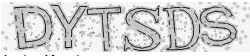D: (11, 4, 53, 50), (162, 5, 201, 54)
S: (123, 6, 163, 52), (199, 4, 237, 48)
T: (86, 7, 123, 53)
Y: (50, 3, 89, 51)
